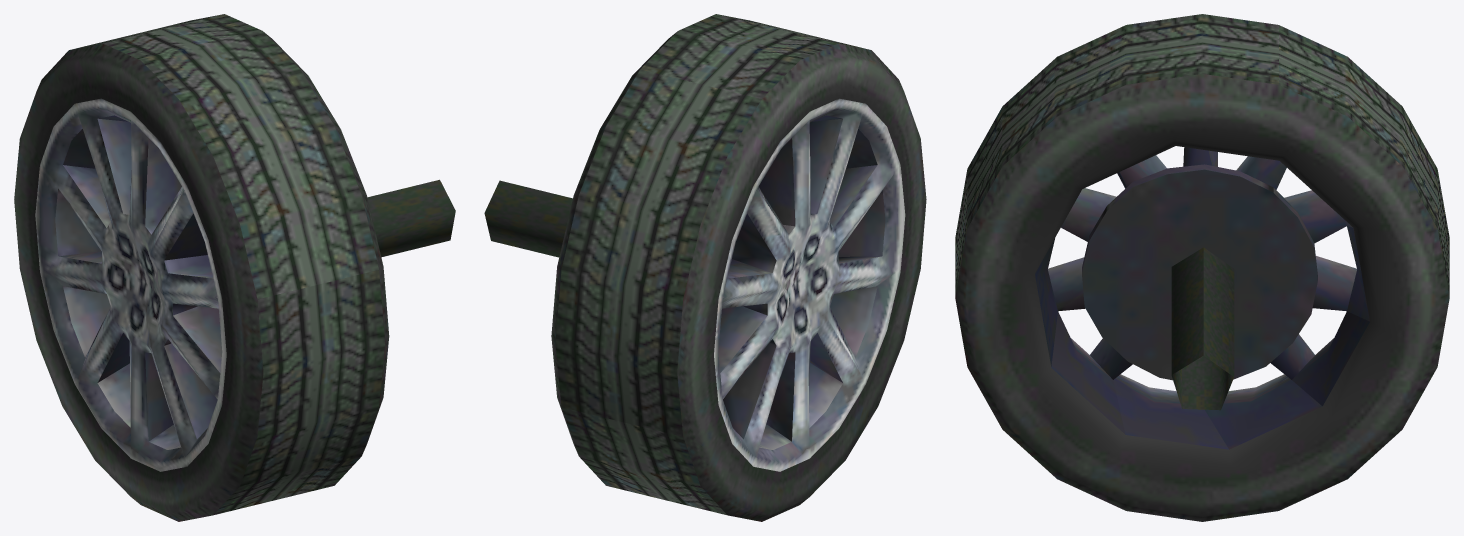
File: wheelFR.dae
3 views of the same model, side by side, from view 1: azimuth 30°, elevation 25°; view 2: azimuth 150°, elevation 25°; view 3: azimuth 270°, elevation 25° (orthographic).
Visible parts, largest first — view 1: lincoln_exterior_003; view 2: lincoln_exterior_003; view 3: lincoln_exterior_003.
Boxes of the visible parts, <box> form: lincoln_exterior_003: <box>14,14,455,521</box>; lincoln_exterior_003: <box>484,14,926,521</box>; lincoln_exterior_003: <box>955,14,1449,521</box>.
Size of the model in its own units: 1.09 by 1.5 by 1.5.
Materials: 1 (1 with a texture image).
